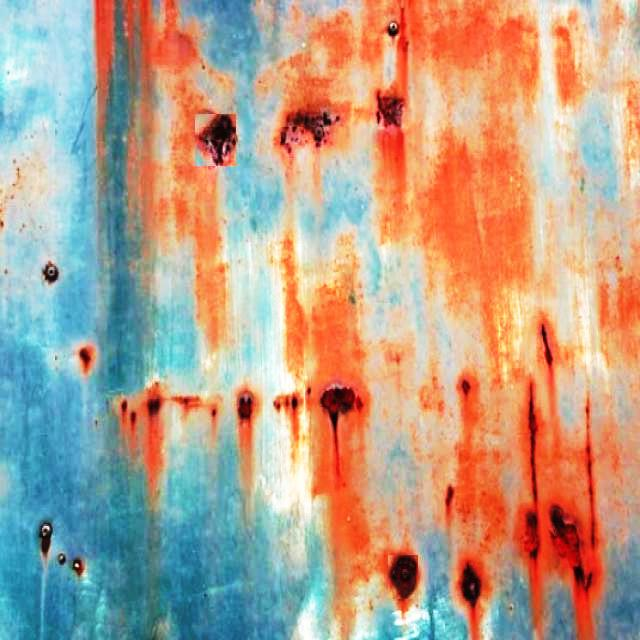Corrosion: (471, 117, 532, 380), (550, 402, 601, 640), (408, 0, 483, 160), (599, 79, 640, 366), (310, 280, 362, 488), (544, 106, 589, 342), (454, 373, 505, 562), (272, 236, 308, 497), (328, 422, 368, 640), (423, 143, 472, 312), (191, 169, 228, 352), (470, 16, 539, 114), (169, 76, 202, 240), (522, 383, 542, 640), (319, 384, 363, 478), (374, 125, 407, 248), (391, 0, 422, 100), (93, 0, 114, 146), (279, 104, 340, 152), (142, 381, 165, 498), (311, 10, 352, 68), (556, 24, 583, 112), (194, 114, 235, 166), (387, 555, 420, 618), (150, 28, 196, 72), (359, 0, 390, 64), (234, 386, 260, 446), (139, 0, 161, 58), (460, 563, 482, 610), (378, 90, 404, 128), (73, 342, 97, 378), (199, 397, 221, 434), (540, 323, 554, 372), (385, 19, 402, 36)
